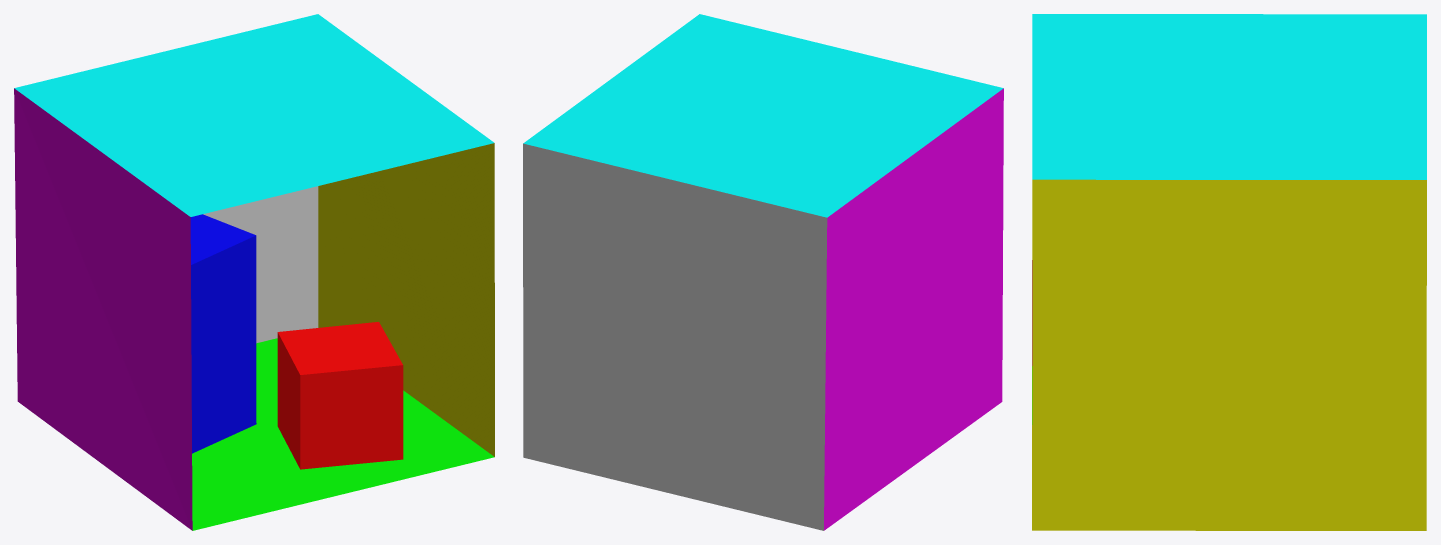
Rendered from cornell-box.glb.
3 renders of one model, left to right at view 1: azimuth 30°, elevation 25°; view 2: azimuth 150°, elevation 25°; view 3: azimuth 270°, elevation 25°, orthographic. The views are drawn at different scales.
Visible parts, largest first — view 1: left_wall, ceiling, right_wall, floor, short_box, tall_box, back_wall; view 2: back_wall, left_wall, ceiling; view 3: right_wall, ceiling.
Boxes of the visible parts, <box> form: left_wall: <box>14,88,192,530</box>; ceiling: <box>14,14,494,216</box>; right_wall: <box>318,143,494,456</box>; floor: <box>192,338,494,530</box>; short_box: <box>277,322,403,469</box>; tall_box: <box>190,214,256,453</box>; back_wall: <box>203,186,318,343</box>; back_wall: <box>523,143,827,530</box>; left_wall: <box>824,88,1003,530</box>; ceiling: <box>523,14,1003,217</box>; right_wall: <box>1032,179,1426,530</box>; ceiling: <box>1032,14,1426,179</box>.
Size of the model in its own units: 5.56 by 5.49 by 5.6.
